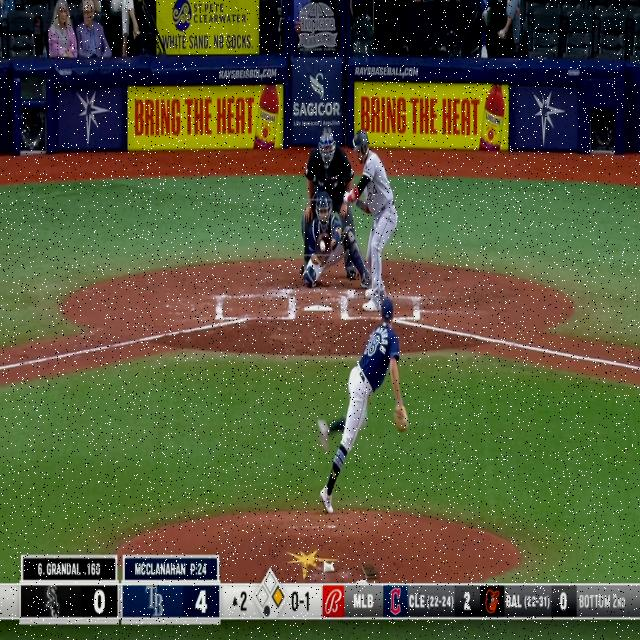baseball: (320, 240, 326, 253)
